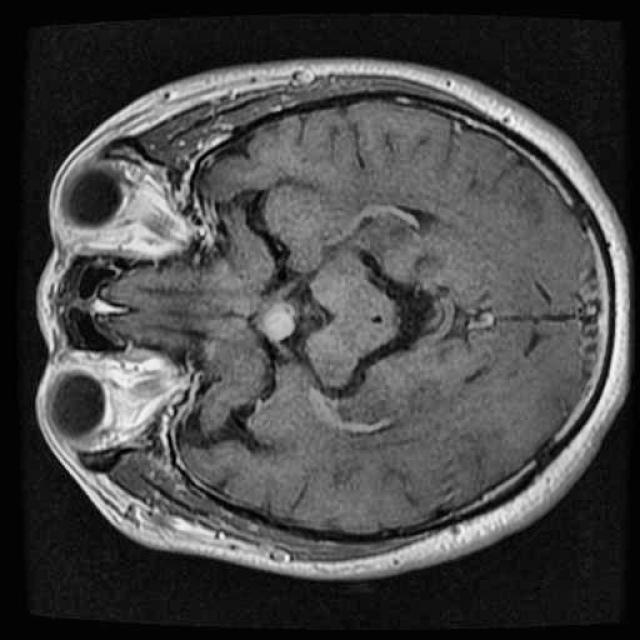Tumor: (243, 292, 312, 354)
